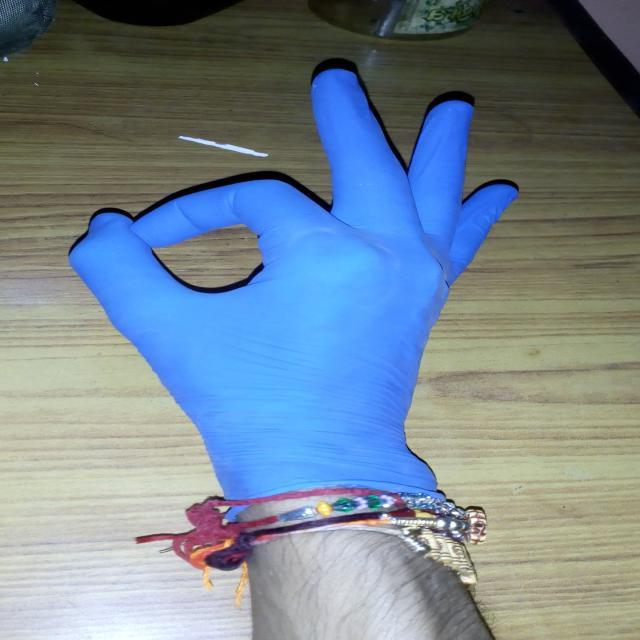gloved_hand: (64, 58, 526, 533)
